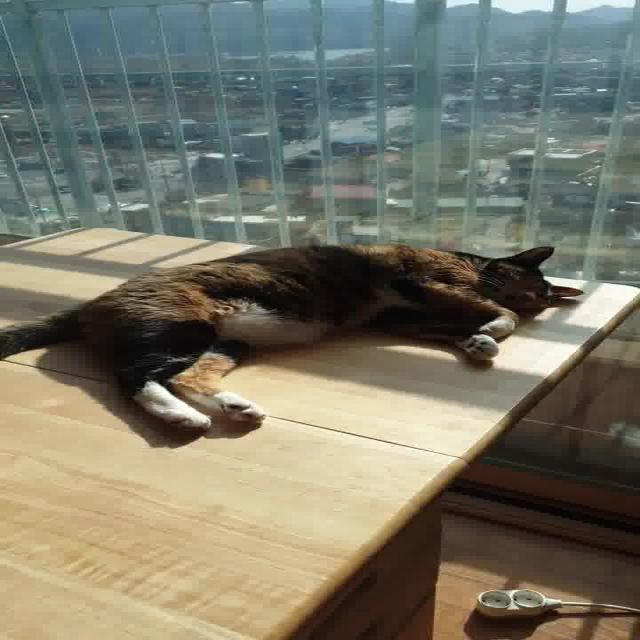cat: (3, 214, 590, 444)
